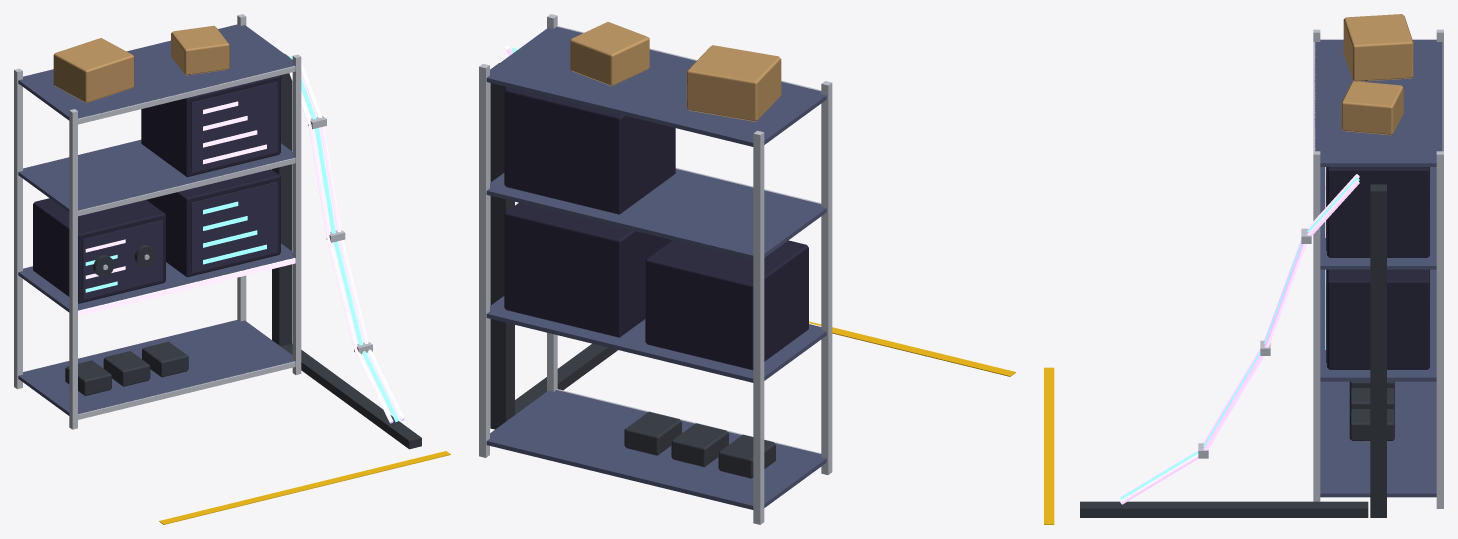
Rendered from station_buffer_3.glb.
3 renders of one model, left to right at view 1: azimuth 30°, elevation 25°; view 2: azimuth 150°, elevation 25°; view 3: azimuth 270°, elevation 25°, orthographic. The views are drawn at different scales.
Parts seen in each view (by area): view 1: station_buffer_3; view 2: station_buffer_3; view 3: station_buffer_3.
Boxes of the visible parts, x1,y1,x2,y2 form: station_buffer_3: [14, 14, 450, 524]; station_buffer_3: [479, 14, 1015, 524]; station_buffer_3: [1044, 14, 1443, 524].
Bounding box in the file's own units: 1.8 × 2.05 × 1.94.
